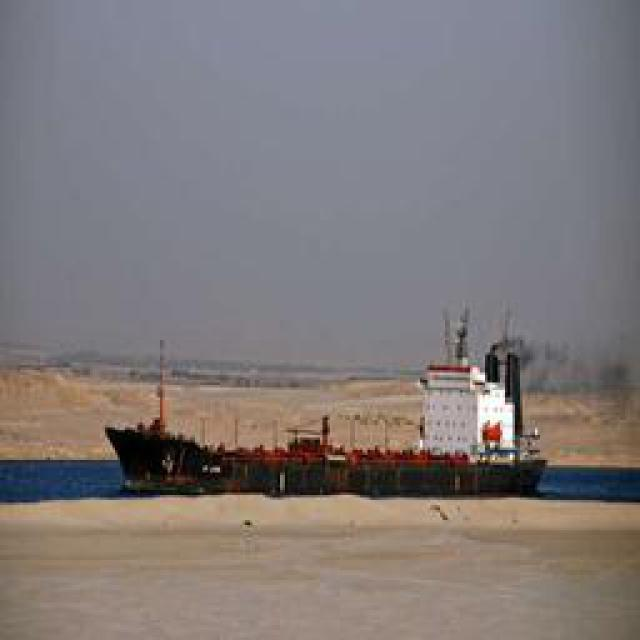Ship: (105, 311, 553, 496)
